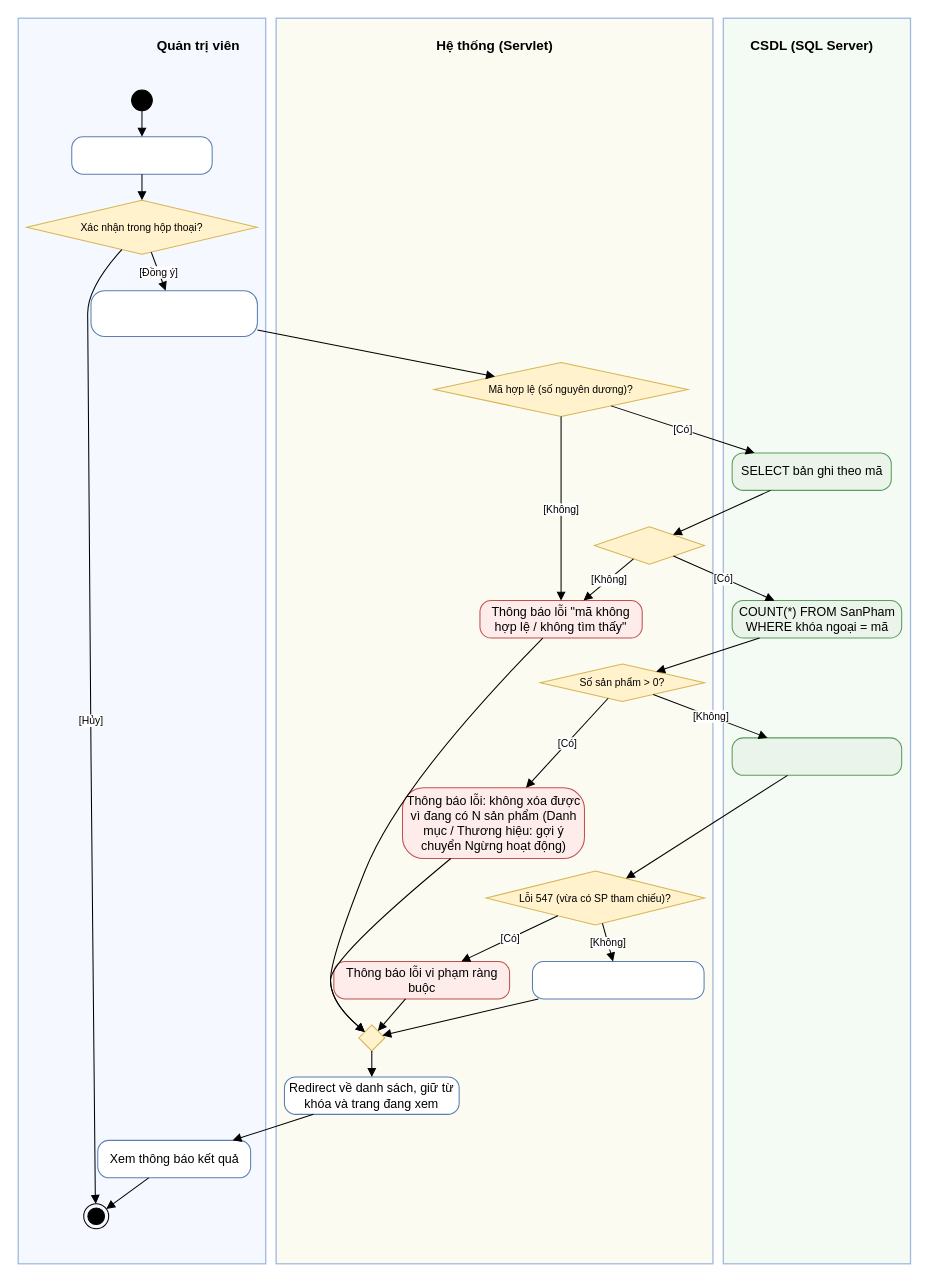
Image size: 930x1282. Some labels were removed from this diagram. The shapes that lost their labels are listed below. From the top down, each one's centre as x and y in pixels, then its label:
the point at 141,155: Bấm Xóa ở một dòng
the point at 173,313: Trình duyệt gửi POST /xoa kèm mã, từ khóa, trang (GET /xoa bị từ chối 405)
the point at 648,545: Còn tồn tại?
the point at 816,756: DELETE ... WHERE mã = ?
the point at 617,979: Thông báo xóa thành công
